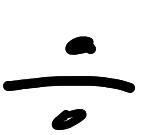div: (3, 36, 135, 130)
